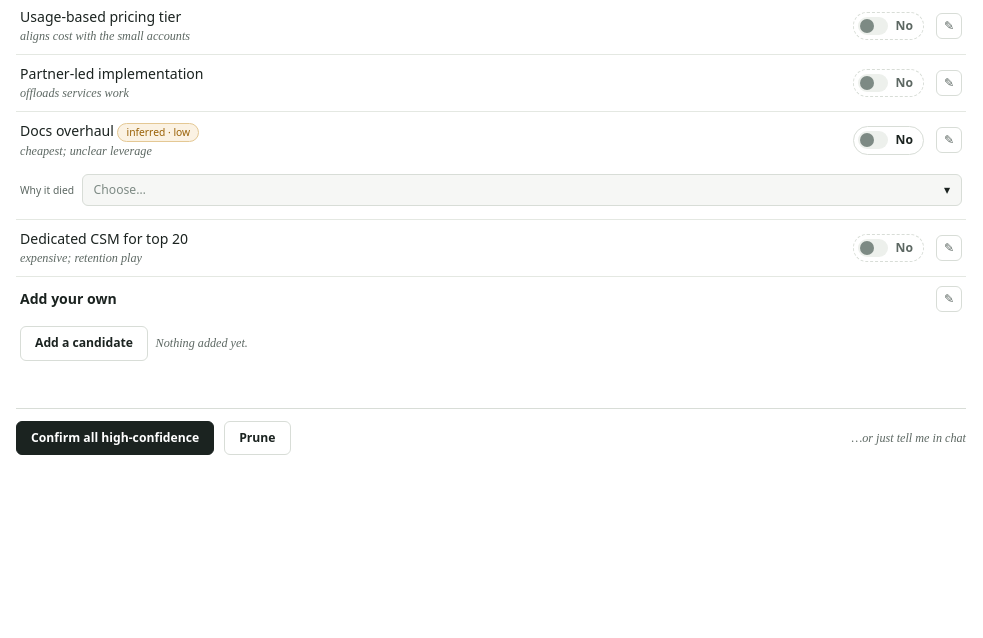
it: repeatable (§4.2/§4.5) › stops at the declared max
The width and height of the screenshot is (983, 638).
Step 1. Click the button "Add a candidate" → (84, 343), box 20,326 -> 148,360
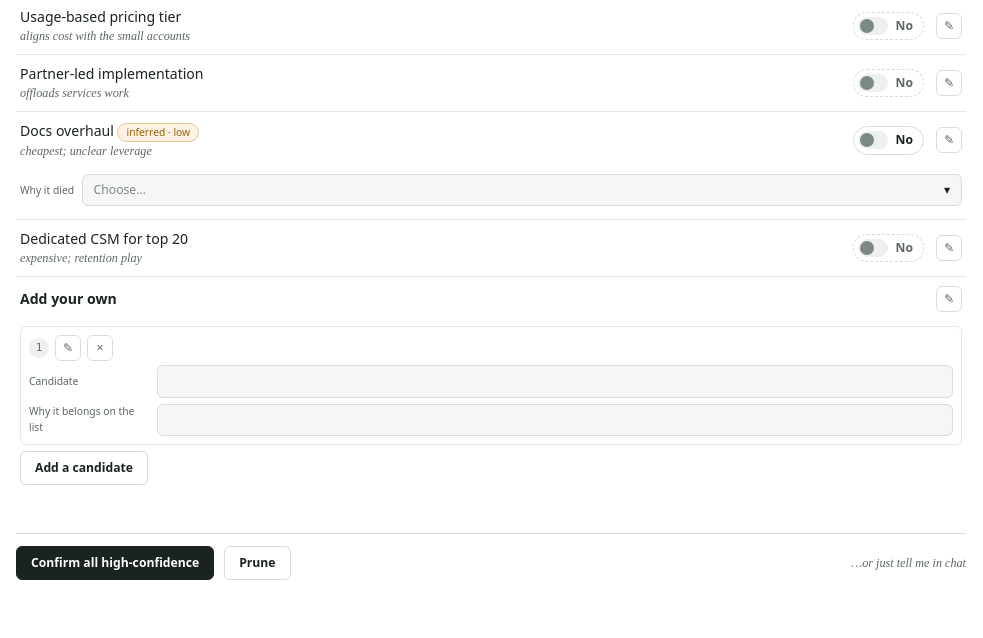
Step 2. Click the button "Add a candidate" → (84, 468), box 20,451 -> 148,485
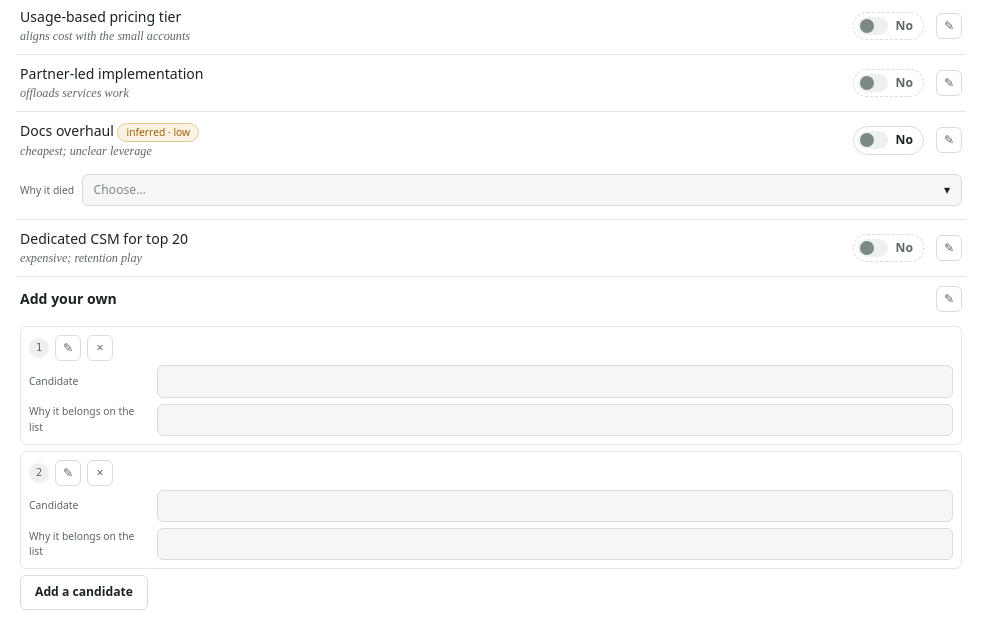
Step 3. Click the button "Add a candidate" → (84, 592), box 20,575 -> 148,610
(page scrolled)
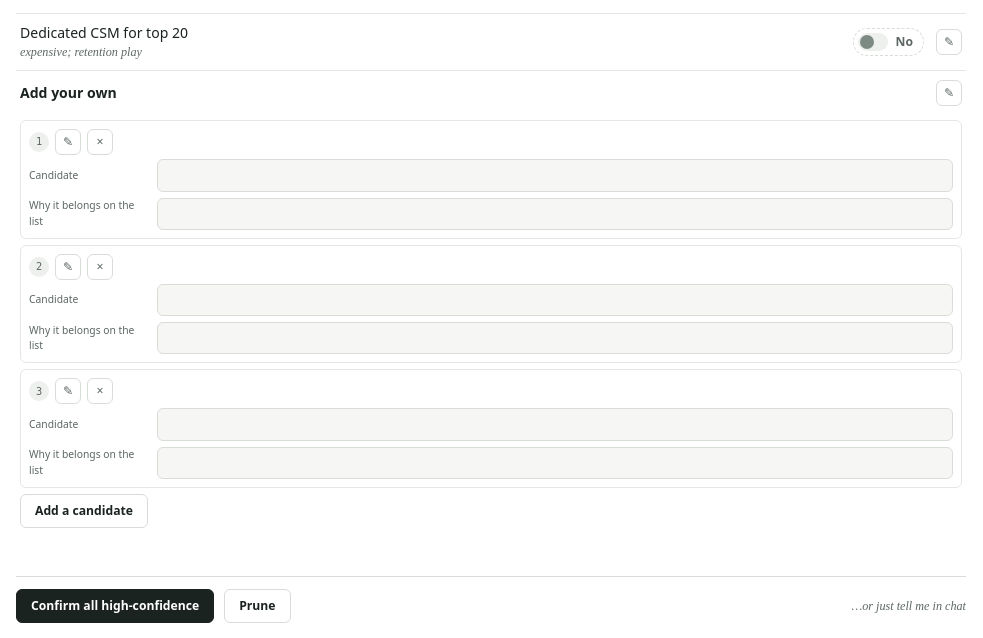
Step 4. Click the button "Add a candidate" → (84, 511), box 20,494 -> 148,528
(page scrolled)
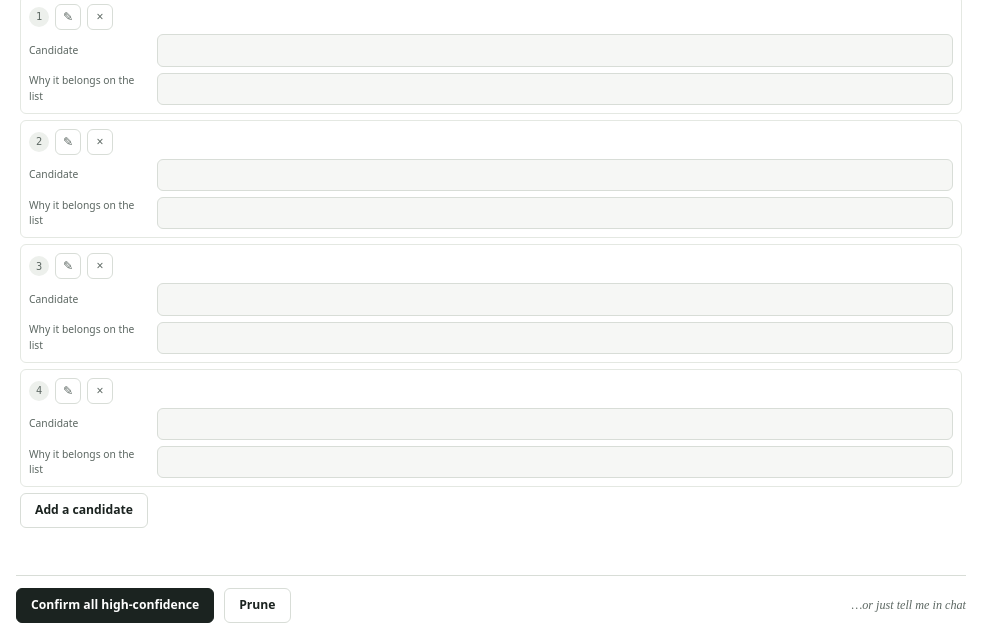
Step 5. Click the button "Add a candidate" → (84, 511), box 20,494 -> 148,528
(page scrolled)
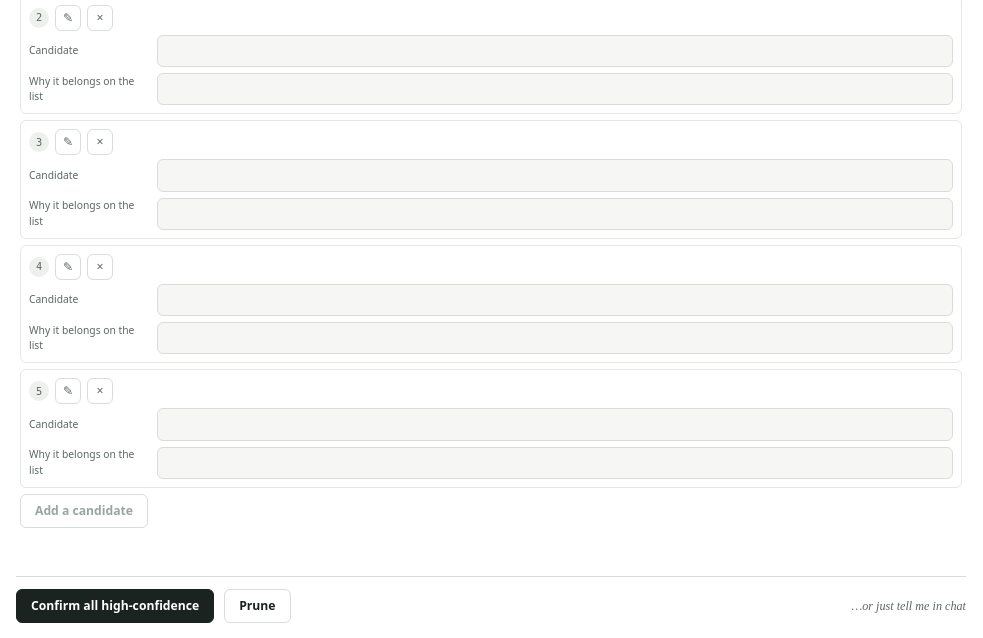
Now the button "Add a candidate" is disabled, box 20,494 -> 148,528
